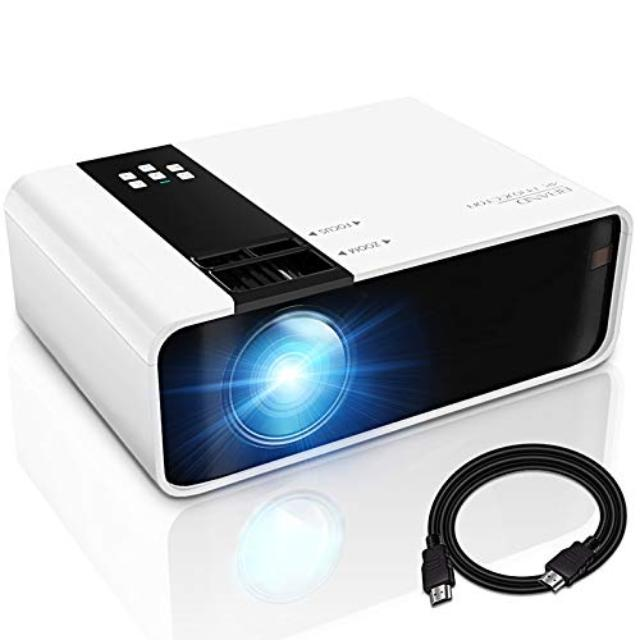Projector: (10, 97, 636, 509)
